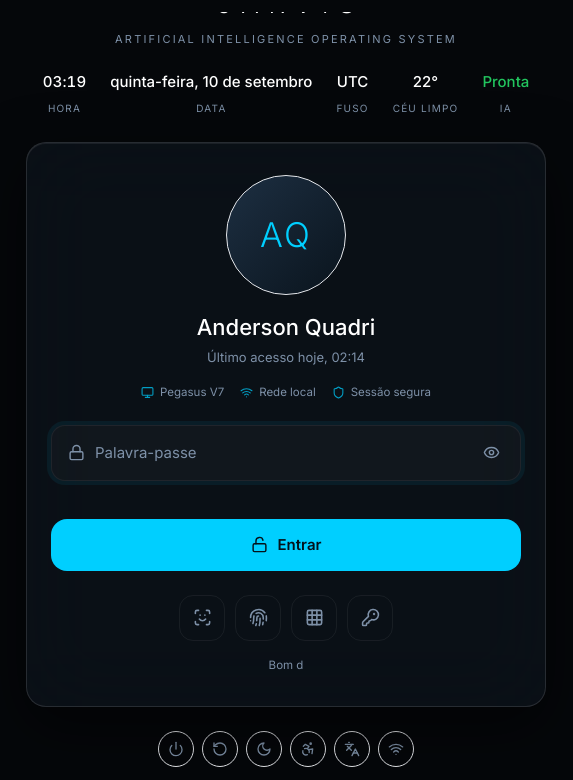
Test: LoginScreen › recusa e avisa quando a palavra-passe está vazia
Step 1. Click the button "Entrar" → (286, 545), box [51,519,521,571]
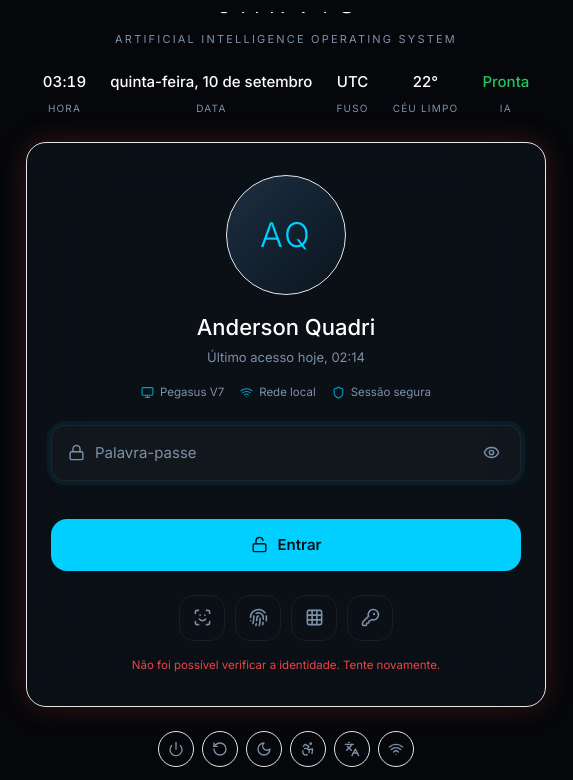
Expected: the text "Não foi possível verificar a identidade. Tente novamente." is shown, [132,658,440,672]
